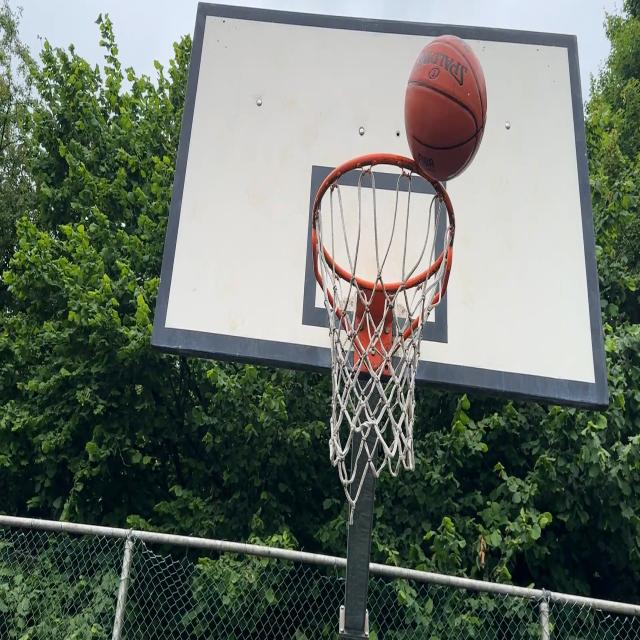rebound_hit: (404, 32, 487, 186)
